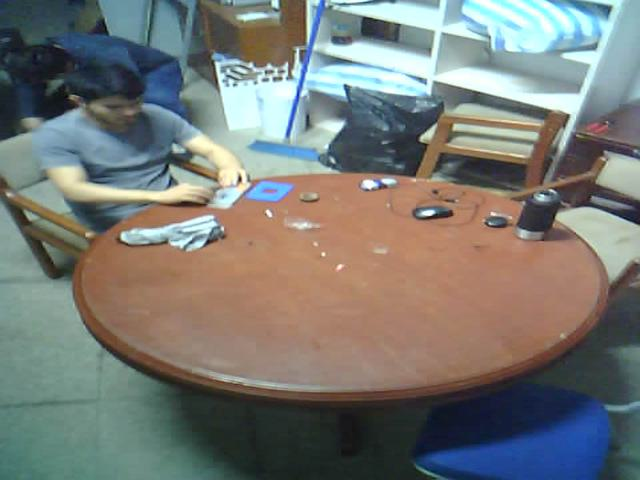person: (54, 74, 277, 234), (2, 22, 197, 129)
